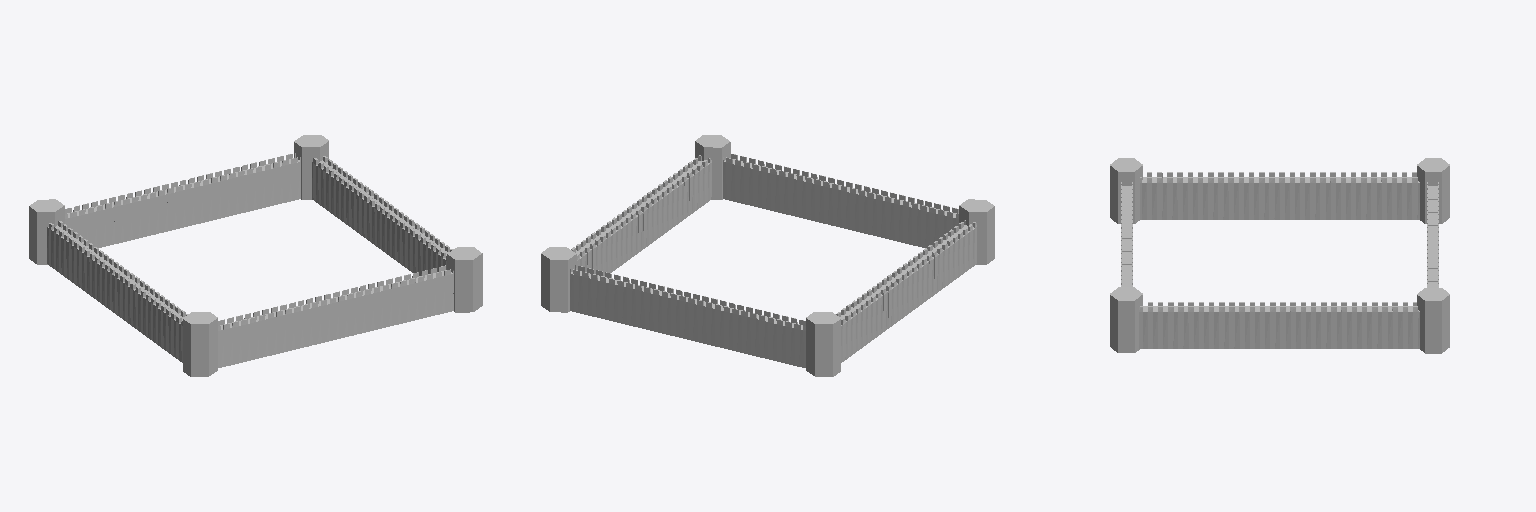
File: castle.obj
3 renders of one model, left to right at view 1: azimuth 30°, elevation 25°; view 2: azimuth 150°, elevation 25°; view 3: azimuth 270°, elevation 25°, orthographic.
Parts seen in each view (by area): view 1: Cube.002; view 2: Cube.002; view 3: Cube.002.
Boxes of the visible parts, x1=… form: Cube.002: x1=29, y1=135, x2=482, y2=376; Cube.002: x1=541, y1=135, x2=994, y2=376; Cube.002: x1=1110, y1=158, x2=1449, y2=353.
Size of the model in its own units: 66.1 by 11.4 by 66.76.